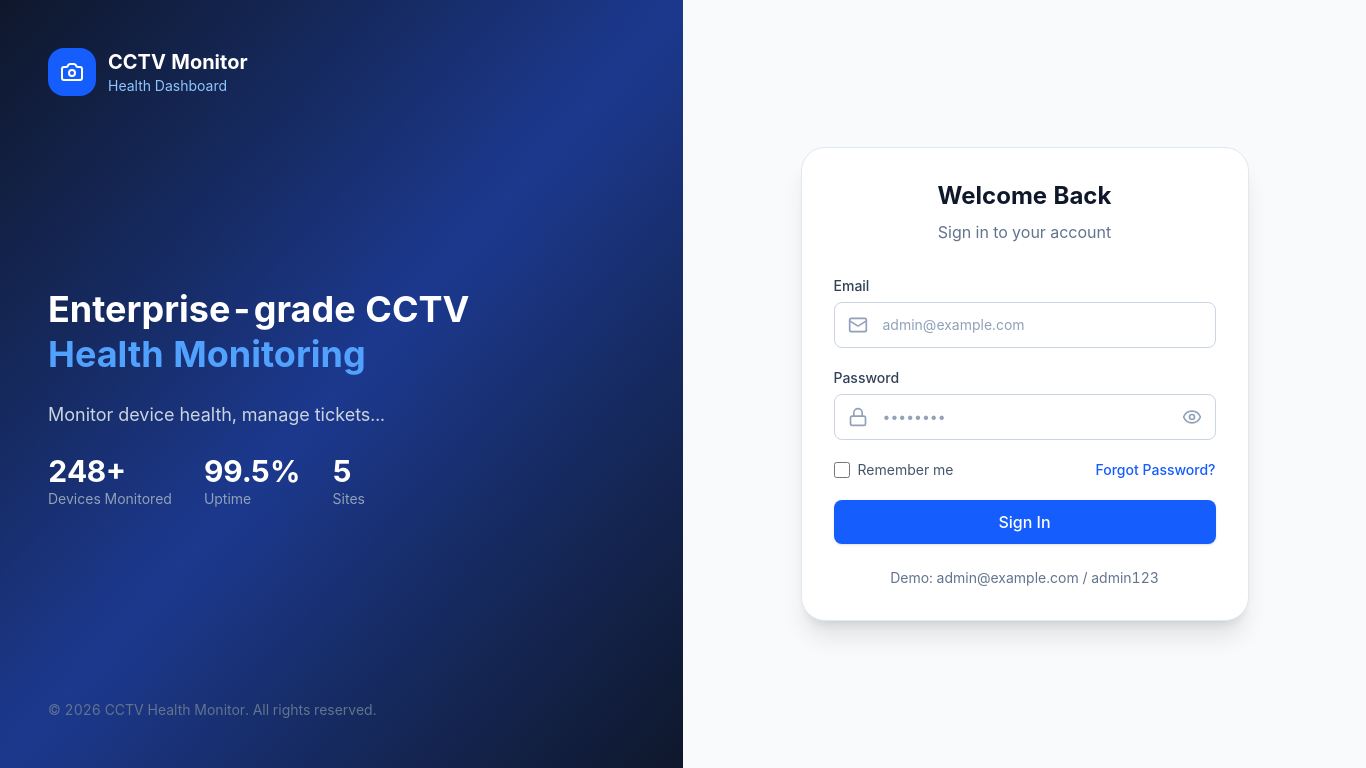
Scenario: AuthFlow — Login Form › shows error when submitting with empty fields
Click the button "Sign In": (1024, 522) [834,500,1216,544]
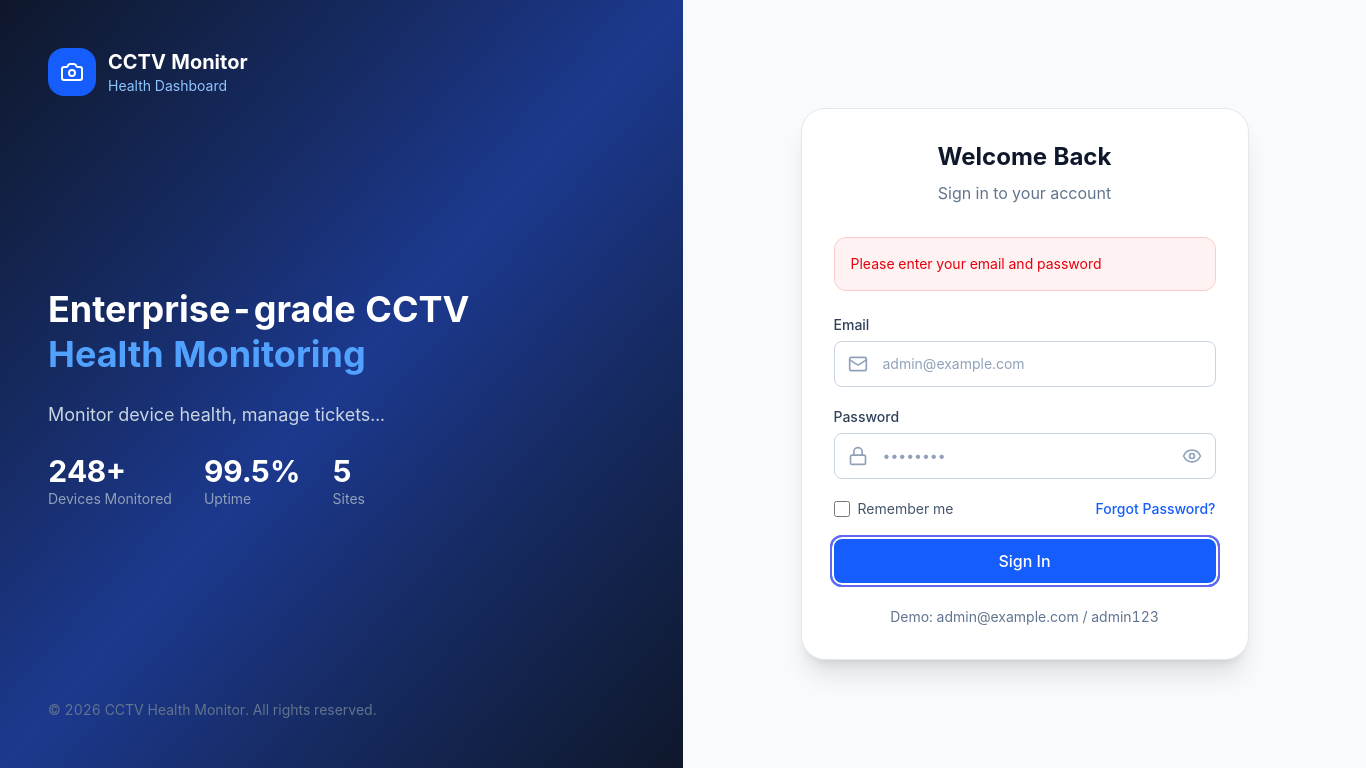
Expected: the text "Please enter your email and password" is shown, [834,237,1216,291]
